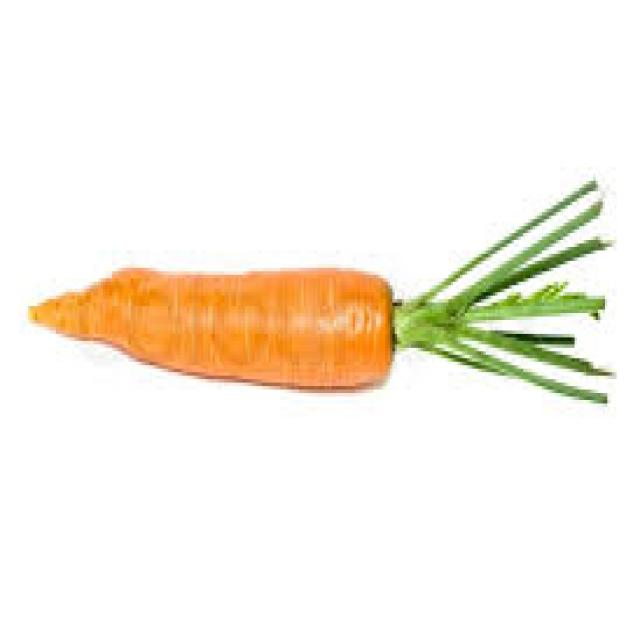organic waste: (390, 174, 614, 400), (26, 268, 390, 386)
